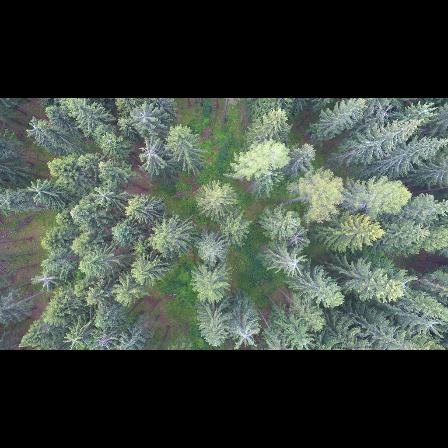Sick: (136, 137, 165, 170), (130, 101, 164, 129), (230, 324, 263, 350), (282, 224, 309, 250), (32, 266, 59, 292), (91, 186, 118, 211), (284, 252, 308, 279), (88, 330, 115, 350)
